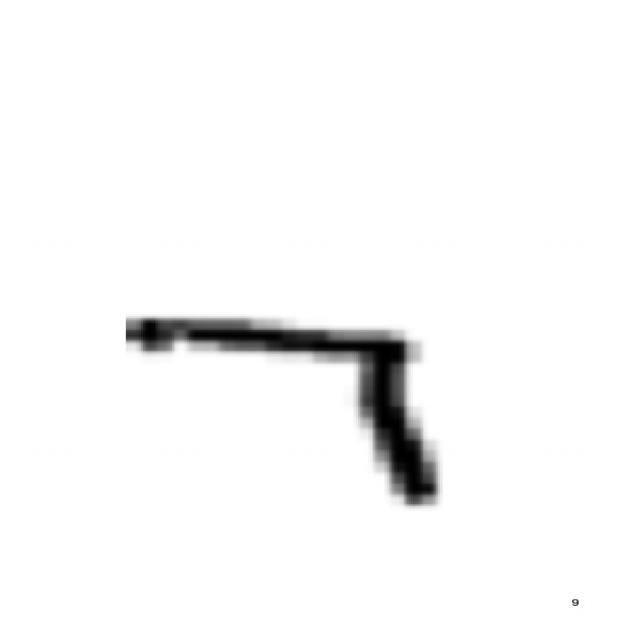6 -six-: (102, 304, 458, 514)
